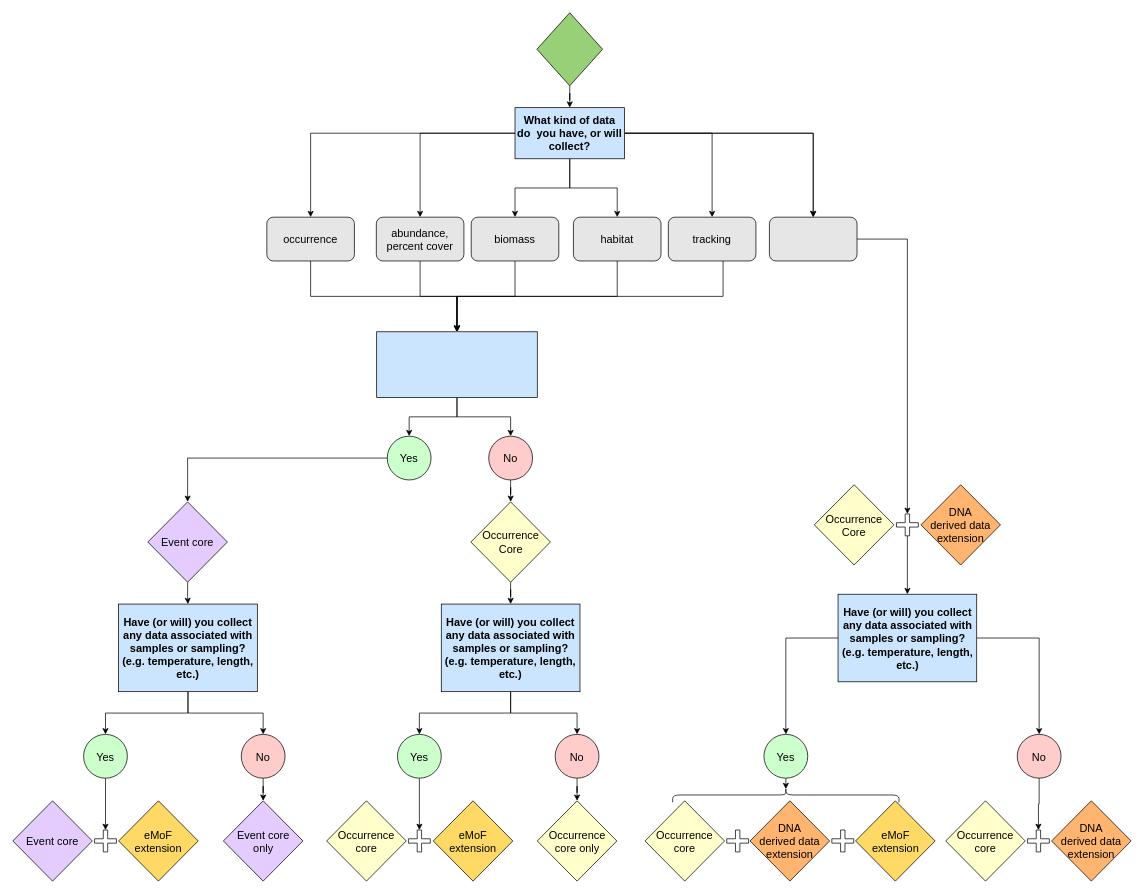
The diagram is 1144 pixels wide and 894 high, and some of its shapes have lost their labels. The centre of each missing label's shape, as x and y in pixels:
"Do you have event level information (e.g. sample, station, cruise, study, etc.)?" goes at pixel 456 364.
"genetic" goes at pixel 813 238.
"Start" goes at pixel 569 49.
